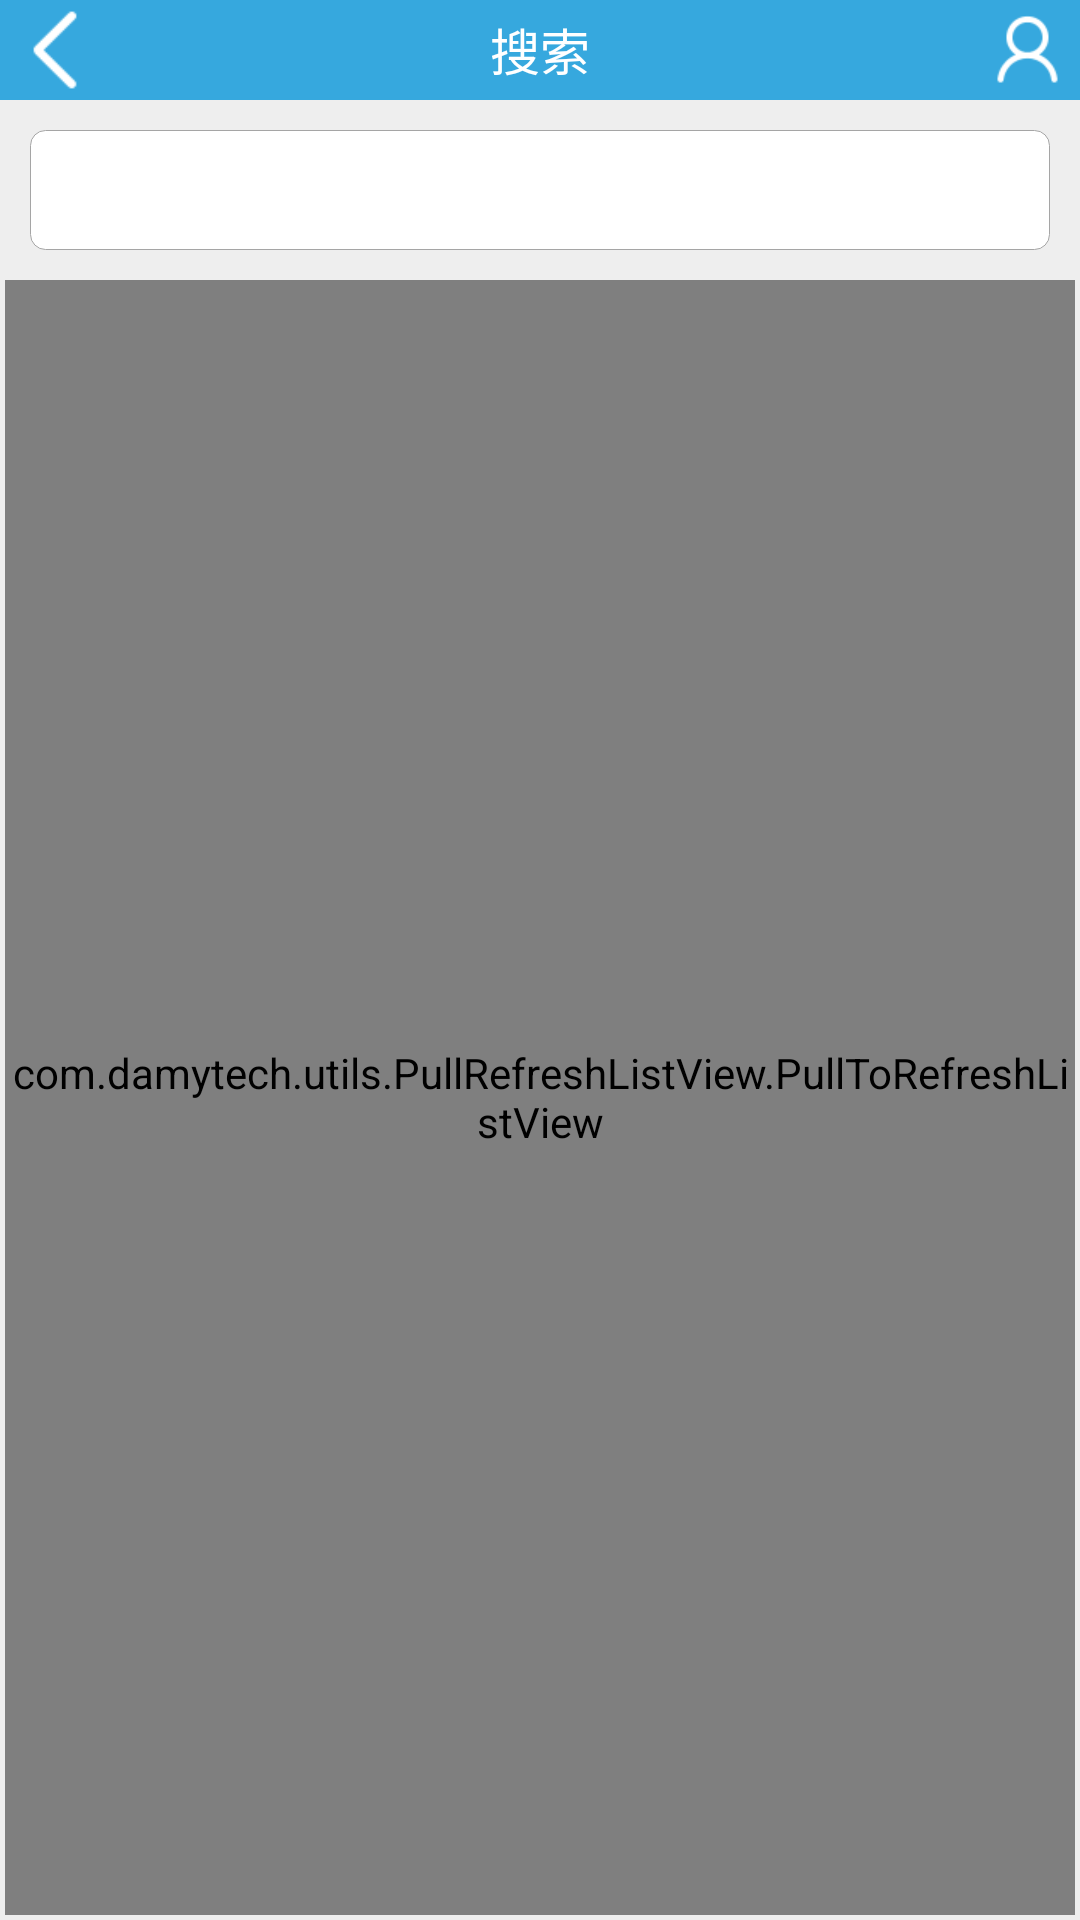

Named icons in this screenshot (1080px×1920px) and their bounding boxes, {"x1": x1, "y1": y1, "x2": x2, "y2": y2}:
leftarrowicon: {"x1": 33, "y1": 11, "x2": 77, "y2": 89}
usericon: {"x1": 997, "y1": 16, "x2": 1058, "y2": 83}
